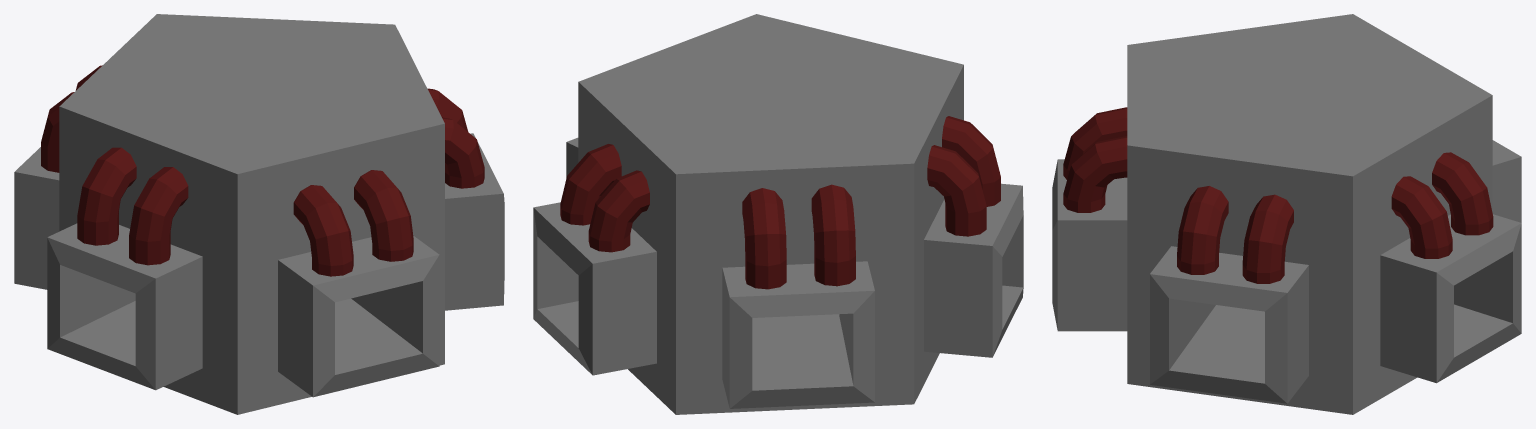
The model's file is towerblocAOE.fbx.
The picture shows the model from 3 angles, left to right: view 1: azimuth 30°, elevation 25°; view 2: azimuth 150°, elevation 25°; view 3: azimuth 270°, elevation 25°; orthographic projection.
Parts seen in each view (by area): view 1: Cylinder; view 2: Cylinder; view 3: Cylinder.
Part boxes in pixels (bbox=[...]): Cylinder: bbox=[14, 14, 504, 414]; Cylinder: bbox=[533, 14, 1023, 414]; Cylinder: bbox=[1052, 14, 1521, 414].
Size of the model in its own units: 211 by 114 by 203.
